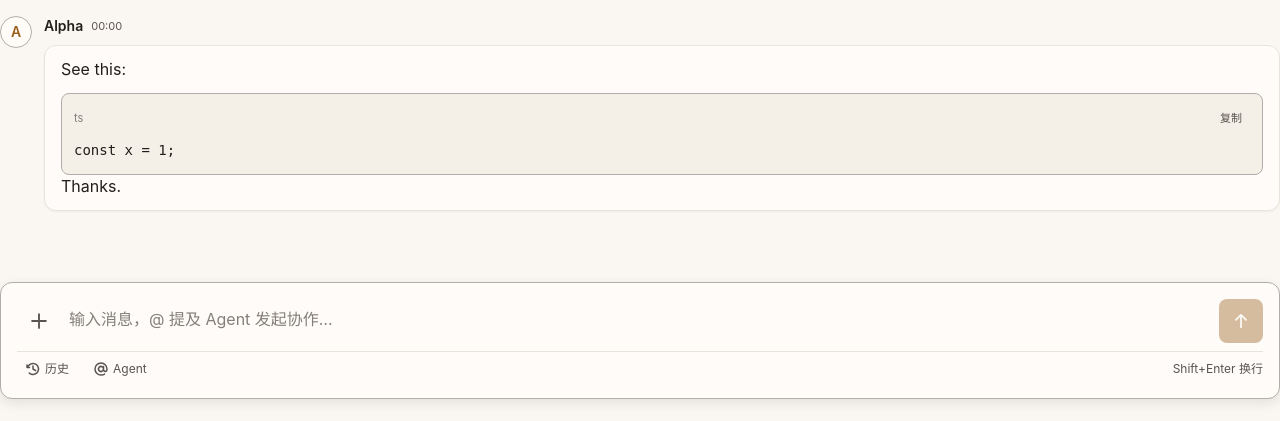
it: collaboration chat composer › renders closed fenced code in spoken messages and copies the code body
Check: the text "See this:" is shown, box [61, 59, 126, 79]
Check: the text "Thanks." is shown, box [61, 176, 121, 196]
Click the button with aria-label "复制代码：const x = 1;".
click(1231, 118)  # box [1212, 106, 1250, 130]
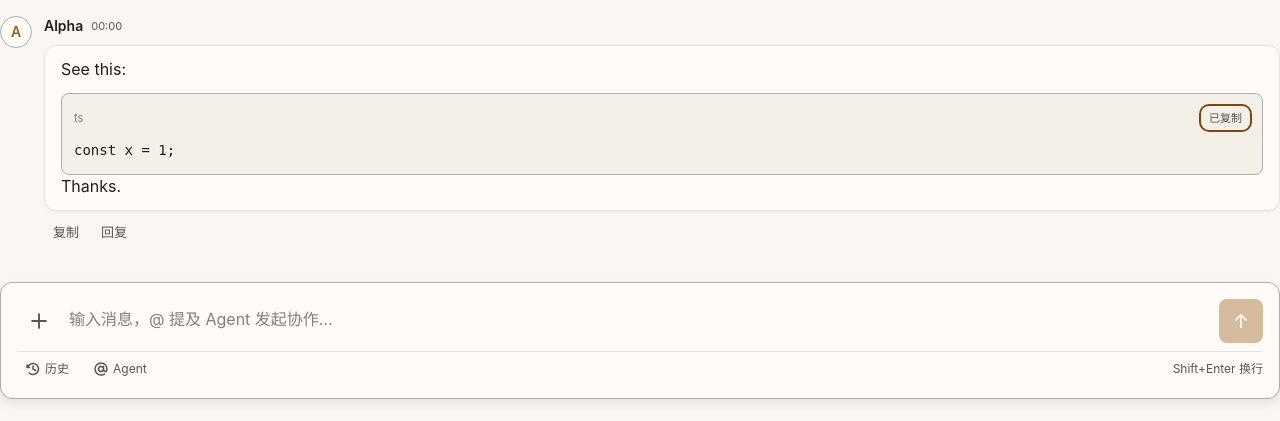
Check: the button with aria-label "已复制代码" is shown, box [1201, 106, 1250, 130]
